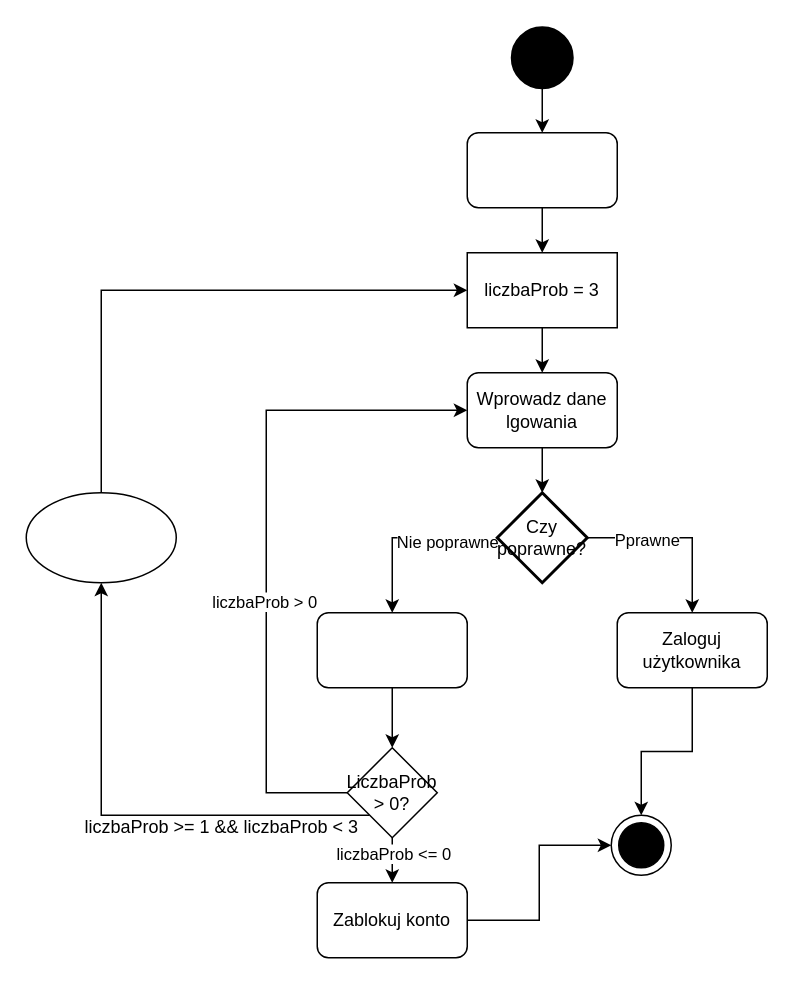
Some shapes in this 794 by 984 pixel diagram are drawn without their labels. Here are the shapes that lost their labels. From the top down, the centre of each, then its label:
At pixel 541 169: "Zaloguj".
At pixel 100 537: "Zmień hasło".
At pixel 391 649: "liczbaProb - 1".
